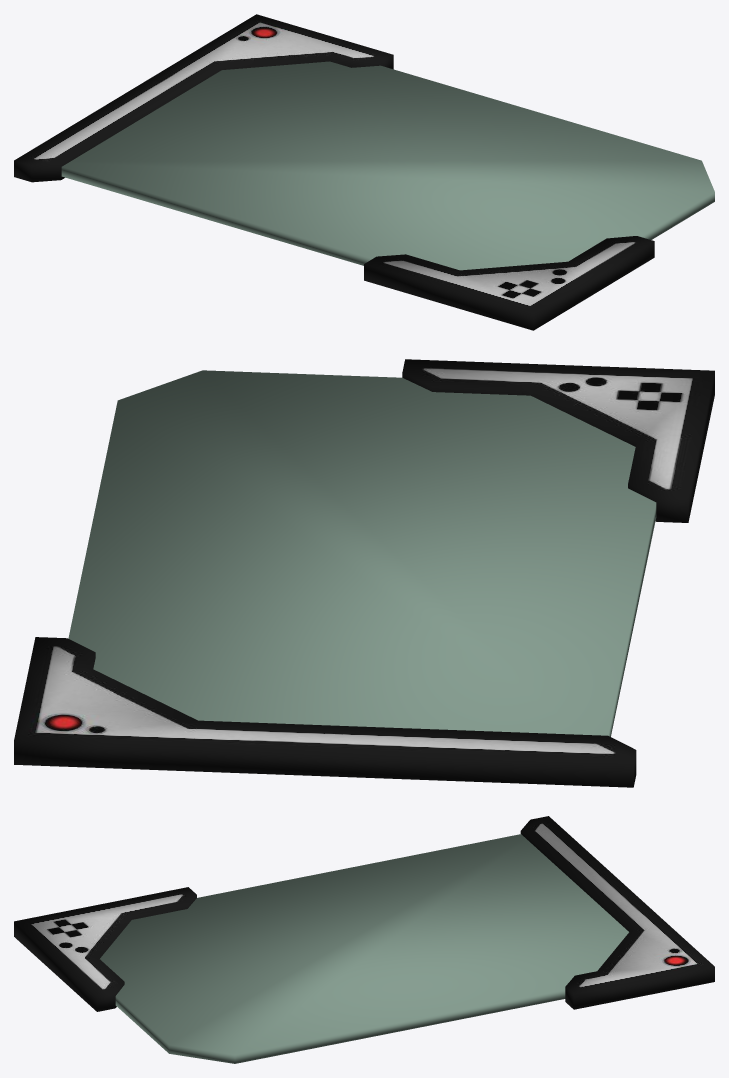
The model's file is item.container.document_case.glb.
The picture shows the model from 3 angles, top to bottom: view 1: azimuth 30°, elevation 25°; view 2: azimuth 150°, elevation 25°; view 3: azimuth 270°, elevation 25°; orthographic projection. The views are drawn at different scales.
Visible parts, largest first — view 1: Tablet_Low_002, Tablet_Low; view 2: Tablet_Low_002, Tablet_Low; view 3: Tablet_Low_002, Tablet_Low.
Boxes of the visible parts, box(x1,y1,x2,y2) form: Tablet_Low_002: box(61, 61, 714, 270); Tablet_Low: box(14, 14, 654, 330); Tablet_Low_002: box(68, 370, 656, 736); Tablet_Low: box(14, 359, 714, 787); Tablet_Low_002: box(100, 834, 628, 1063); Tablet_Low: box(14, 816, 714, 1011).
Size of the model in its own units: 0.955 by 0.0289 by 1.2.
Materials: 3 (3 with a texture image).
